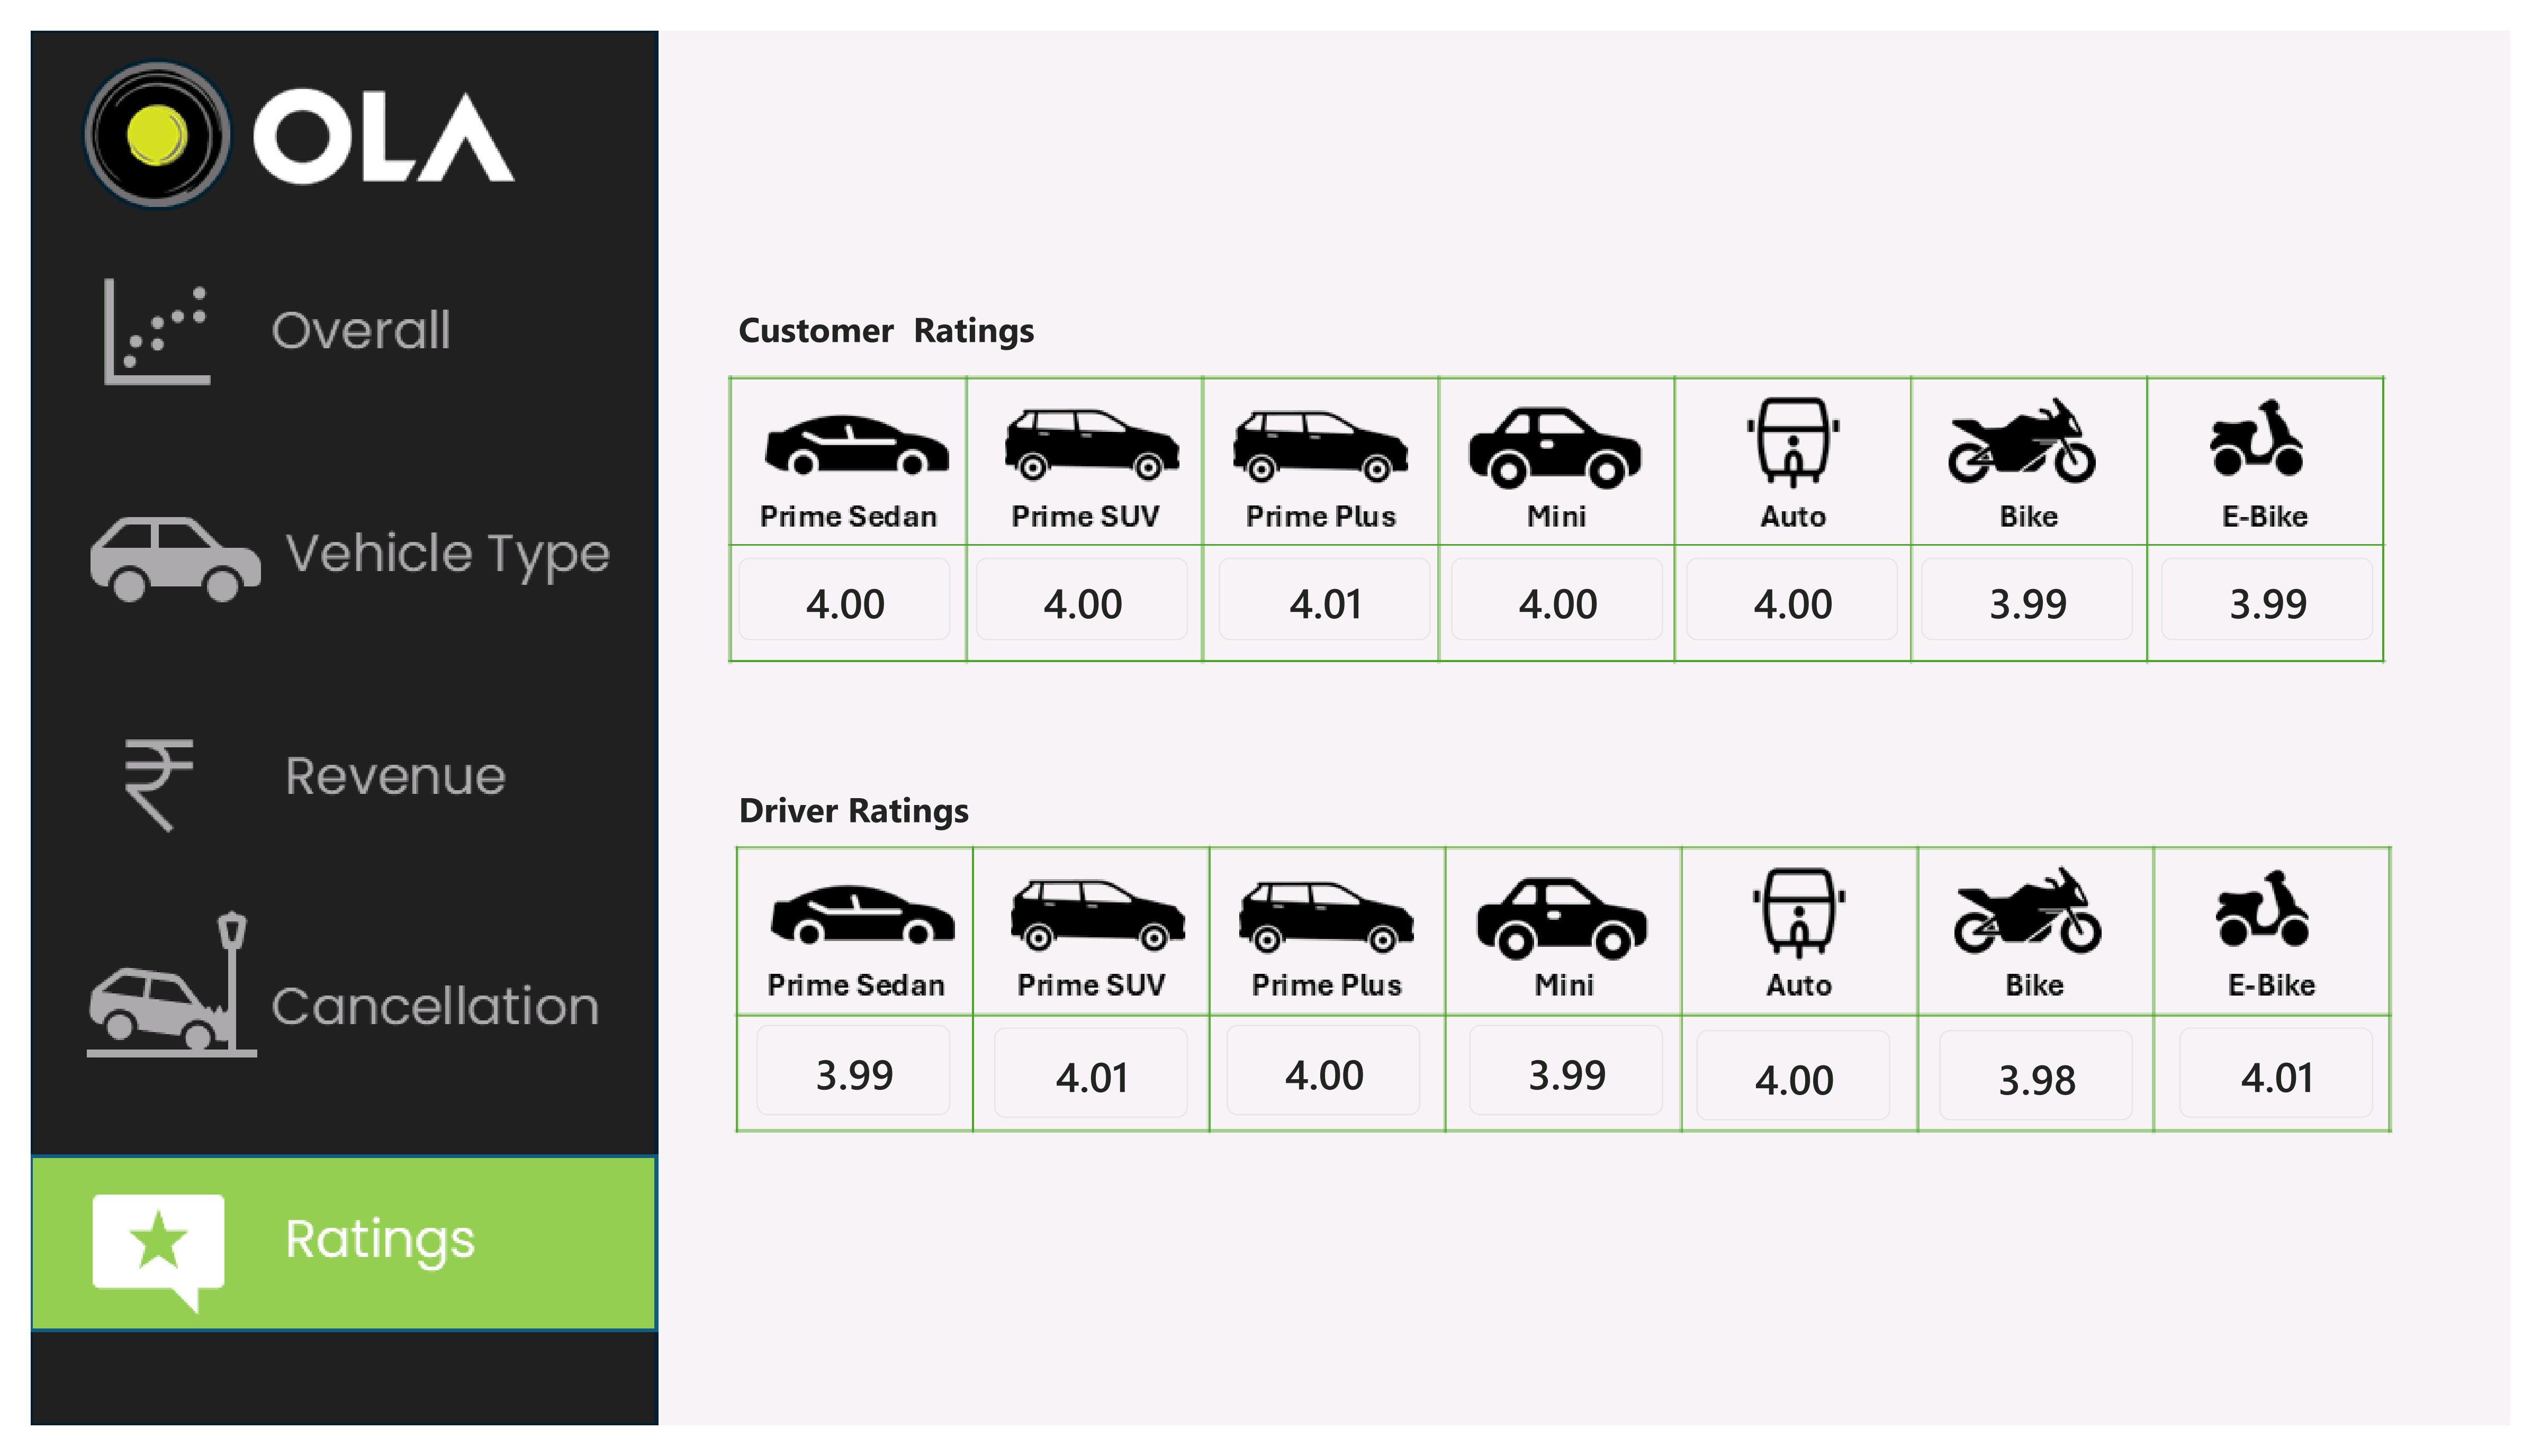

This screenshot's page, from the dashboard's own definition file:
{"tool":"powerbi","page":{"name":"Ratings","canvas":[1920,1080],"ordinal":4},"visuals":[{"type":"actionButton","box":[0,173.9,487,128.3],"z":0},{"type":"actionButton","box":[0,343.5,487,128.3],"z":1000},{"type":"actionButton","box":[0,515.2,487,128.3],"z":2000},{"type":"actionButton","box":[0,673.9,487,128.3],"z":3000},{"type":"cardVisual","fields":{"Data":["Avg(Bookings.Customer_Rating)"]},"box":[548,408,164,64],"z":3001},{"type":"cardVisual","fields":{"Data":["Avg(Bookings.Customer_Rating)"]},"box":[732,408,164,64],"z":3002},{"type":"cardVisual","fields":{"Data":["Avg(Bookings.Customer_Rating)"]},"box":[920,408,164,64],"z":3003},{"type":"cardVisual","fields":{"Data":["Avg(Bookings.Customer_Rating)"]},"box":[1100,408,164,64],"z":3004},{"type":"cardVisual","fields":{"Data":["Avg(Bookings.Customer_Rating)"]},"box":[1282,408,164,64],"z":3005},{"type":"cardVisual","fields":{"Data":["Avg(Bookings.Customer_Rating)"]},"box":[1464,408,164,64],"z":3006},{"type":"cardVisual","fields":{"Data":["Avg(Bookings.Customer_Rating)"]},"box":[1650,408,164,64],"z":3007},{"type":"textbox","box":[548,212,266,46],"z":3008},{"type":"textbox","box":[548,584,266,60],"z":3009},{"type":"cardVisual","fields":{"Data":["Avg(Bookings.Driver_Ratings)"]},"box":[562,770,150,70],"z":3010},{"type":"cardVisual","fields":{"Data":["Avg(Bookings.Driver_Ratings)"]},"box":[926,770,150,70],"z":3011},{"type":"cardVisual","fields":{"Data":["Avg(Bookings.Driver_Ratings)"]},"box":[1114,770,150,70],"z":3012},{"type":"cardVisual","fields":{"Data":["Avg(Bookings.Driver_Ratings)"]},"box":[1290,774,150,70],"z":3013},{"type":"cardVisual","fields":{"Data":["Avg(Bookings.Driver_Ratings)"]},"box":[1664,772,150,70],"z":3014},{"type":"cardVisual","fields":{"Data":["Avg(Bookings.Driver_Ratings)"]},"box":[1478,774,150,70],"z":3015},{"type":"cardVisual","fields":{"Data":["Avg(Bookings.Driver_Ratings)"]},"box":[746,772,150,70],"z":3016}]}

Visuals, with their boxes in screenshot pixels (x1, y1, x2, y2):
actionButton: l=20, t=128, r=655, b=295
actionButton: l=20, t=349, r=655, b=517
actionButton: l=20, t=573, r=655, b=740
actionButton: l=20, t=780, r=655, b=947
cardVisual - Avg(Bookings.Customer_Rating): l=735, t=433, r=949, b=517
cardVisual - Avg(Bookings.Customer_Rating): l=975, t=433, r=1190, b=517
cardVisual - Avg(Bookings.Customer_Rating): l=1221, t=433, r=1435, b=517
cardVisual - Avg(Bookings.Customer_Rating): l=1455, t=433, r=1670, b=517
cardVisual - Avg(Bookings.Customer_Rating): l=1693, t=433, r=1907, b=517
cardVisual - Avg(Bookings.Customer_Rating): l=1931, t=433, r=2144, b=517
cardVisual - Avg(Bookings.Customer_Rating): l=2173, t=433, r=2387, b=517
textbox: l=735, t=177, r=1082, b=238
textbox: l=735, t=663, r=1082, b=741
cardVisual - Avg(Bookings.Driver_Ratings): l=753, t=906, r=949, b=997
cardVisual - Avg(Bookings.Driver_Ratings): l=1228, t=906, r=1424, b=997
cardVisual - Avg(Bookings.Driver_Ratings): l=1474, t=906, r=1670, b=997
cardVisual - Avg(Bookings.Driver_Ratings): l=1704, t=911, r=1899, b=1002
cardVisual - Avg(Bookings.Driver_Ratings): l=2192, t=908, r=2387, b=999
cardVisual - Avg(Bookings.Driver_Ratings): l=1949, t=911, r=2144, b=1002
cardVisual - Avg(Bookings.Driver_Ratings): l=994, t=908, r=1190, b=999
